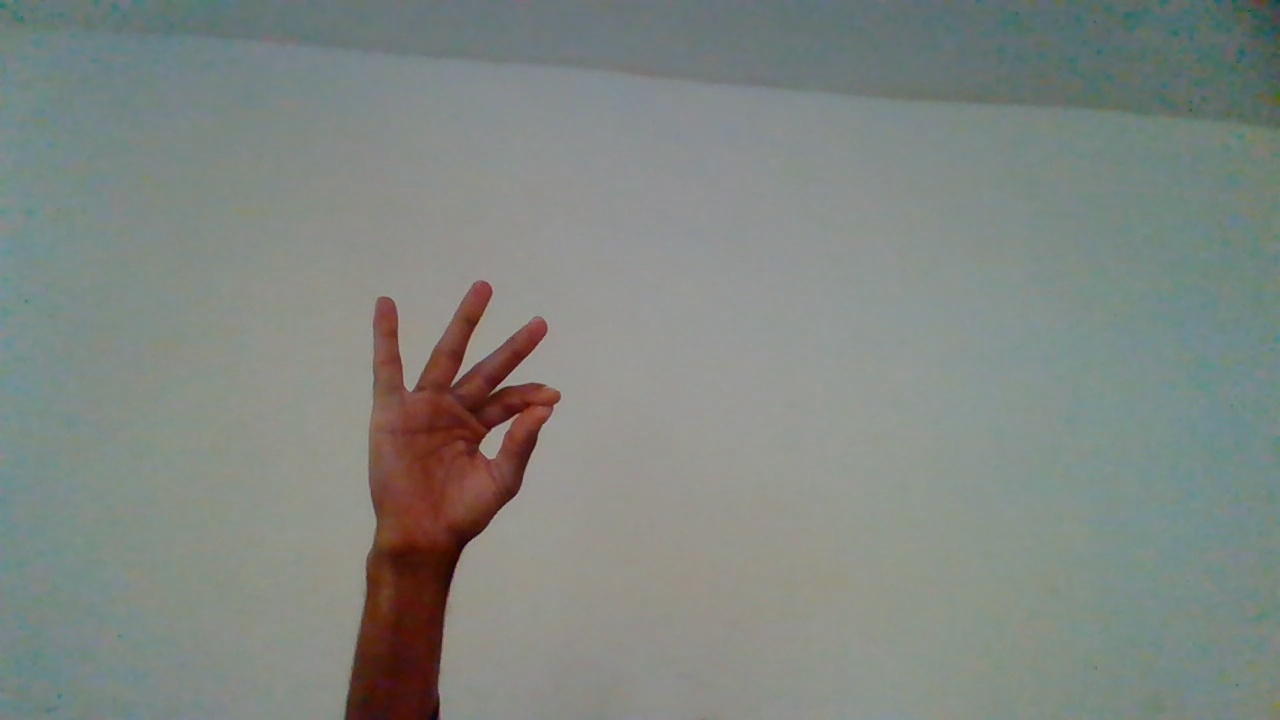le: (367, 283, 565, 672)
